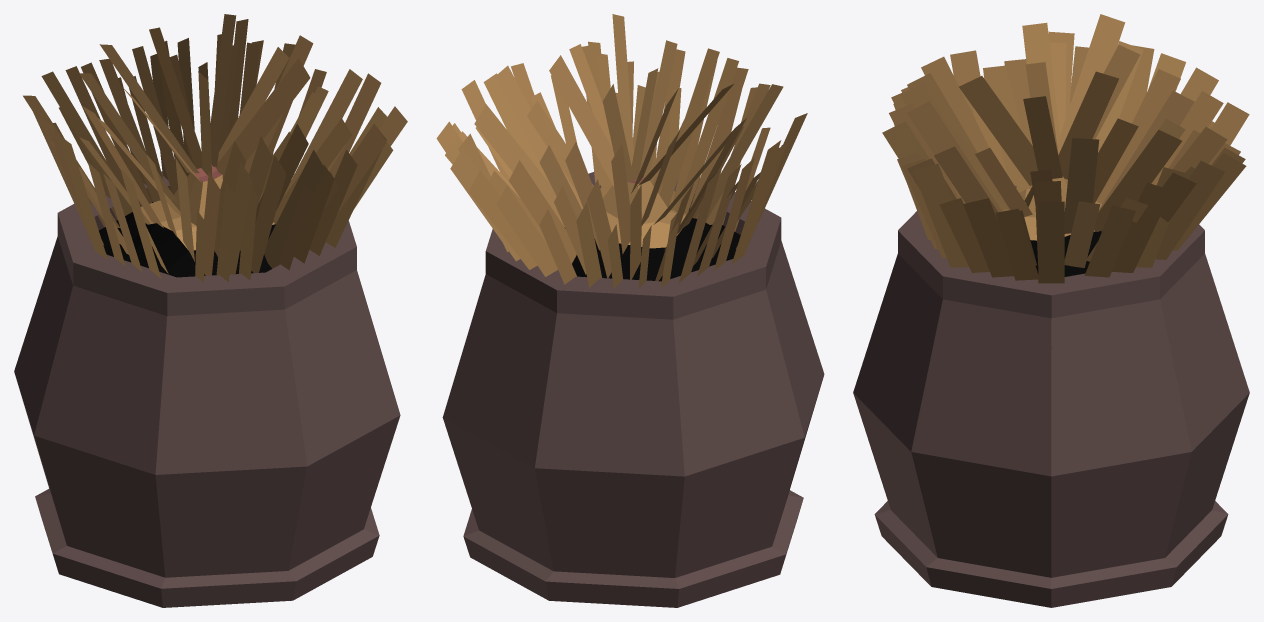
File: SM_Prop_Barrel.fbx
The picture shows the model from 3 angles, left to right: view 1: azimuth 30°, elevation 25°; view 2: azimuth 150°, elevation 25°; view 3: azimuth 270°, elevation 25°; orthographic projection.
Parts seen in each view (by area): view 1: Cylinder.009; view 2: Cylinder.009; view 3: Cylinder.009.
Part boxes in pixels (x1,y1,x2,y2): Cylinder.009: [14, 14, 407, 607]; Cylinder.009: [436, 14, 824, 607]; Cylinder.009: [853, 14, 1249, 607].
Bounding box in the file's own units: 165 × 225 × 165.
